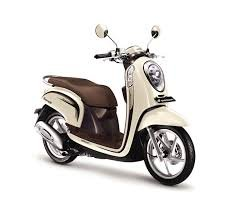motor: (32, 41, 197, 187)
